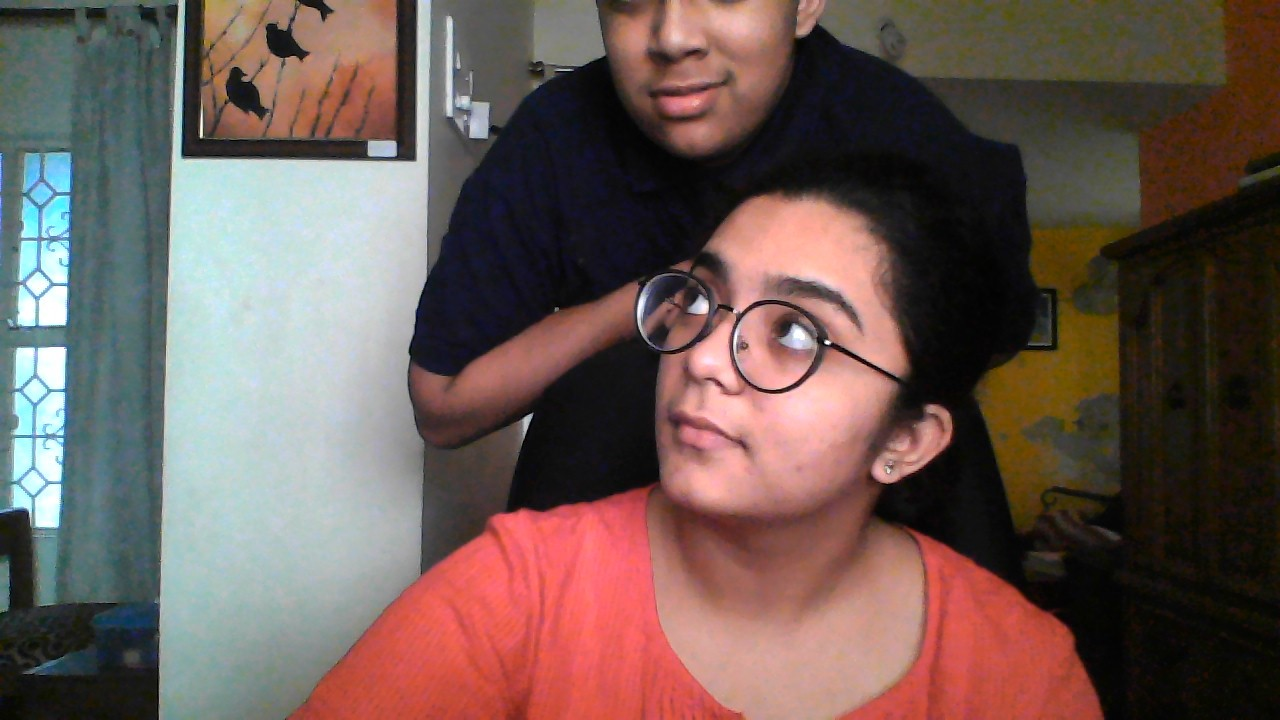person: (585, 192, 1101, 623), (557, 1, 970, 154)
